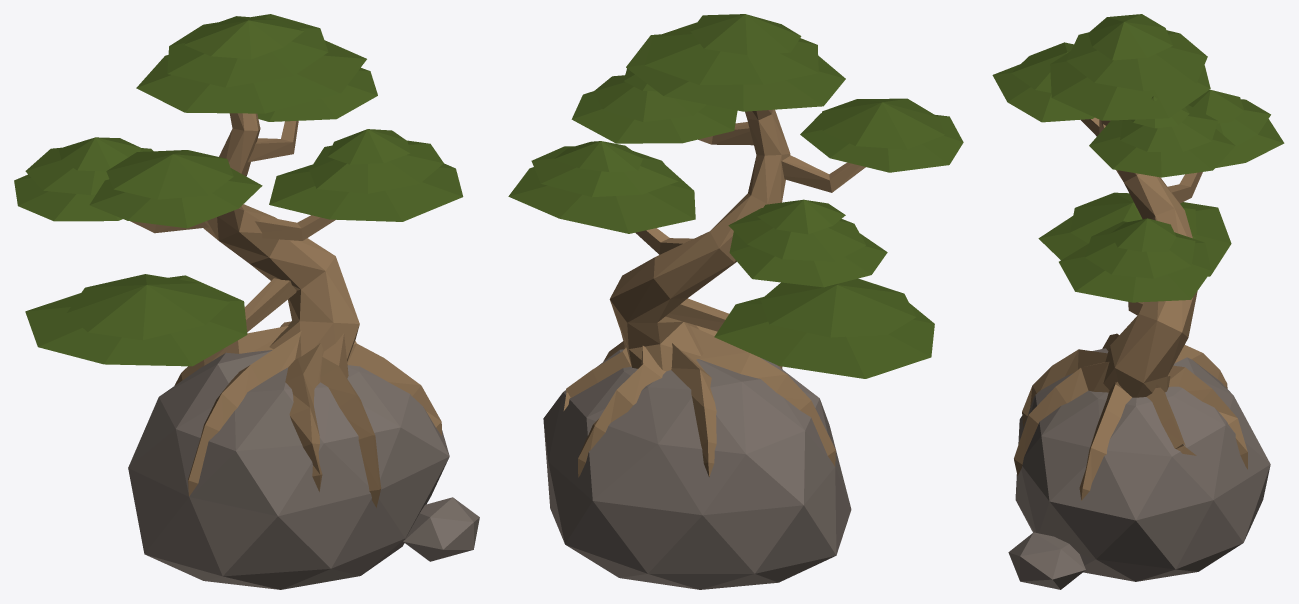
File: twisted-pine-on-a-525dc7.glb
3 views of the same model, side by side, from view 1: azimuth 30°, elevation 25°; view 2: azimuth 150°, elevation 25°; view 3: azimuth 270°, elevation 25° (orthographic). The views are drawn at different scales.
Visible parts, largest first — view 1: twisted-pine-on-a-525dc7; view 2: twisted-pine-on-a-525dc7; view 3: twisted-pine-on-a-525dc7.
Boxes of the visible parts, x1,y1,x2,y2 form: twisted-pine-on-a-525dc7: [14, 14, 479, 589]; twisted-pine-on-a-525dc7: [508, 14, 963, 589]; twisted-pine-on-a-525dc7: [992, 14, 1284, 589].
Size of the model in its own units: 4.02 by 5.02 by 2.7.
